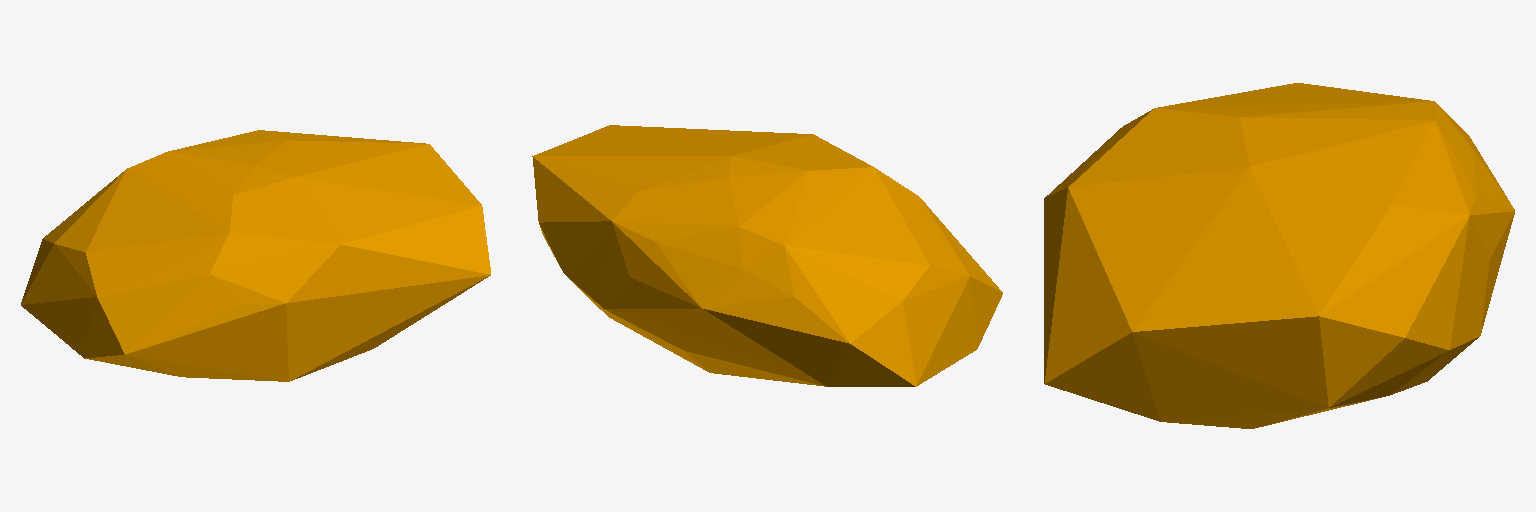
URDF robot description (055_024_2084):
<?xml version="1.0"?>
<robot name="055_024_2084">
  <link name="link">
    <contact>
      <lateral_friction value="0.6"/>
    </contact>
    <inertial>
      <mass value = "0.13100627038773735"/>
      <inertia ixx="2.3629785652862195e-05" ixy="-2.7649428694475082e-06" ixz="2.2416232285909544e-06" iyy="3.975313420084997e-05" iyz="9.62233971926485e-07" izz="5.249069573781647e-05" />
    </inertial>
    <visual name="visual">
      <geometry>
        <mesh filename="055_024_2084.obj"/>
      </geometry>
    </visual>
    <collision name="collision">
      <geometry>
        <mesh filename="055_024_2084.obj"/>
      </geometry>
    </collision>
  </link>
</robot>

--- What the picture shows (computed from the rendered views, not written in the file) ---
Views: 3 orthographic renders of the robot side by side, from view 1: azimuth 30°, elevation 25°; view 2: azimuth 150°, elevation 25°; view 3: azimuth 270°, elevation 25°.
Robot: 055_024_2084 — 1 links, 0 joints (none); root link link; default pose: every joint at zero.
Links seen in each view (by area): view 1: link; view 2: link; view 3: link.
Boxes of the visible links, x1,y1,x2,y2 form: link: [21, 130, 490, 381]; link: [532, 125, 1002, 386]; link: [1044, 83, 1514, 428].
Bounding box of the posed robot: 0.0706 × 0.05 × 0.0283 m (x, y, z).
Meshes: 1 distinct files referenced, 1 mesh visuals loaded (1 OBJ).
